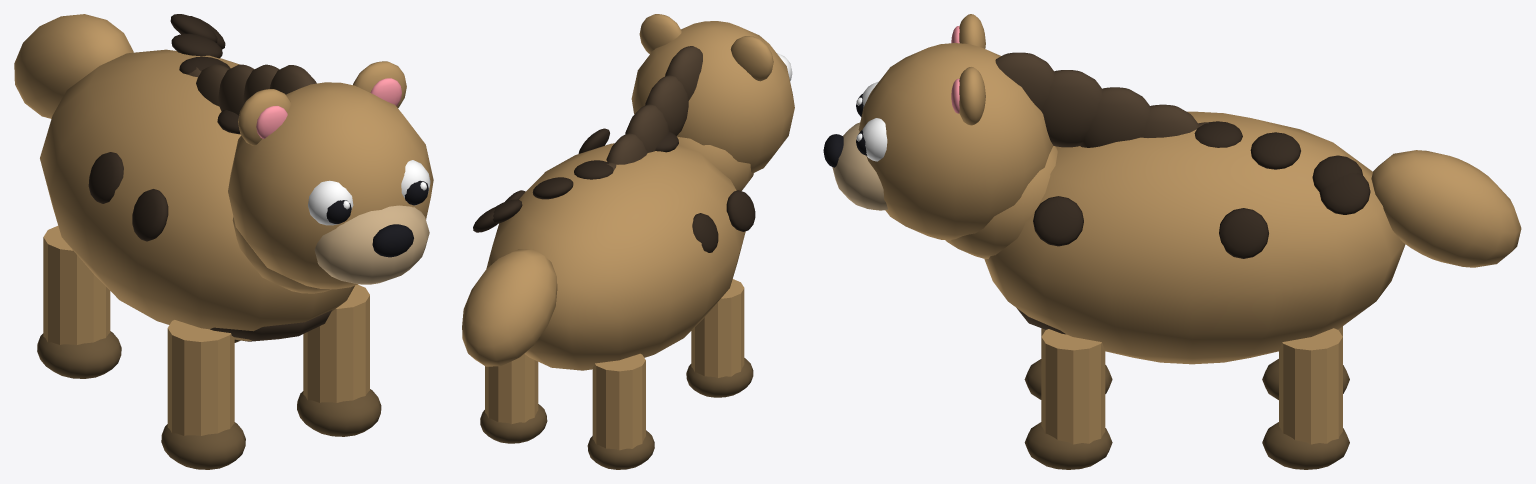
The picture shows the model from 3 angles, left to right: view 1: azimuth 30°, elevation 25°; view 2: azimuth 150°, elevation 25°; view 3: azimuth 270°, elevation 25°; orthographic projection. The views are drawn at different scales.
Visible parts, largest first — view 1: Hyena; view 2: Hyena; view 3: Hyena.
Boxes of the visible parts, x1,y1,x2,y2 form: Hyena: (14,14,433,469); Hyena: (462,14,794,469); Hyena: (823,14,1521,469).
Bounding box in the file's own units: 1.7 × 2.69 × 4.37.
Materials: 1 (1 with a texture image).
